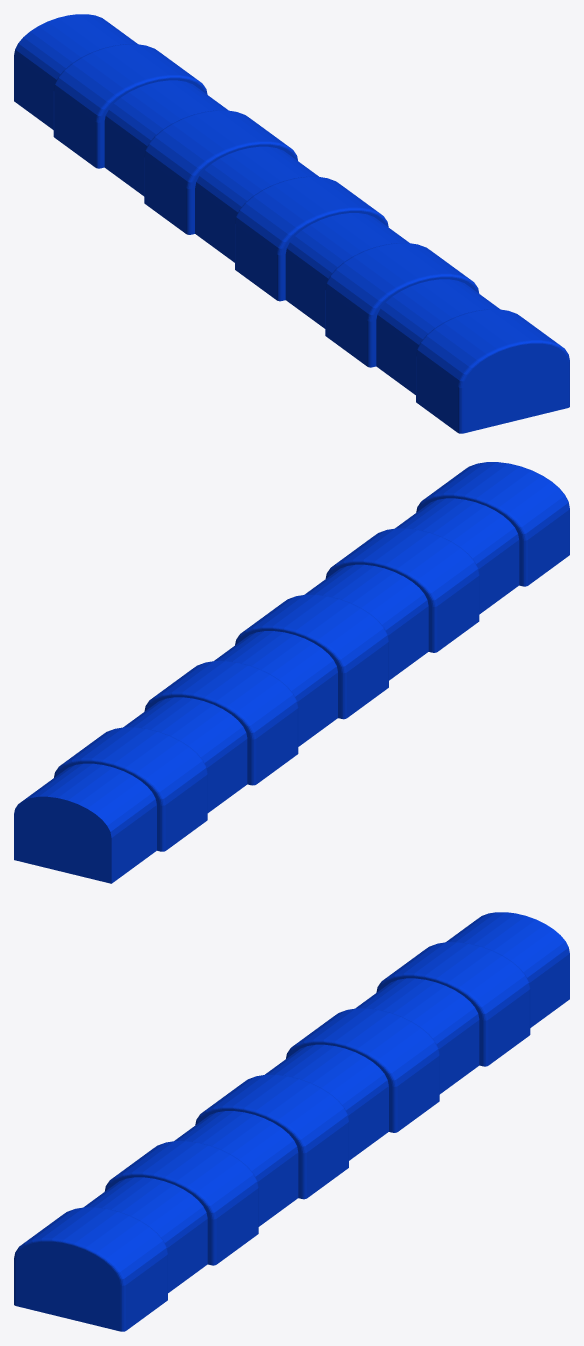
File: lpz.fbx
3 views of the same model, one above another, from view 1: azimuth 30°, elevation 25°; view 2: azimuth 150°, elevation 25°; view 3: azimuth 330°, elevation 25° (orthographic).
Parts seen in each view (by area): view 1: pCylinder3, pCylinder2, pCylinder7, pCylinder1, pCylinder6; view 2: pCylinder7, pCylinder6, pCylinder2, pCylinder3, pCylinder1; view 3: pCylinder3, pCylinder2, pCylinder7, pCylinder1, pCylinder6.
Boxes of the visible parts, <box> form: pCylinder3: <box>376,279,569,433</box>; pCylinder2: <box>285,213,479,367</box>; pCylinder7: <box>14,14,207,168</box>; pCylinder1: <box>195,146,388,301</box>; pCylinder6: <box>104,80,297,234</box>; pCylinder7: <box>14,727,207,883</box>; pCylinder6: <box>123,661,298,812</box>; pCylinder2: <box>304,528,479,680</box>; pCylinder3: <box>395,462,569,614</box>; pCylinder1: <box>214,594,388,746</box>; pCylinder3: <box>14,1177,207,1331</box>; pCylinder2: <box>104,1111,298,1265</box>; pCylinder7: <box>376,912,569,1066</box>; pCylinder1: <box>195,1044,388,1199</box>; pCylinder6: <box>286,978,479,1132</box>.
Bounding box in the file's own units: 8.53 × 5.59 × 60.
